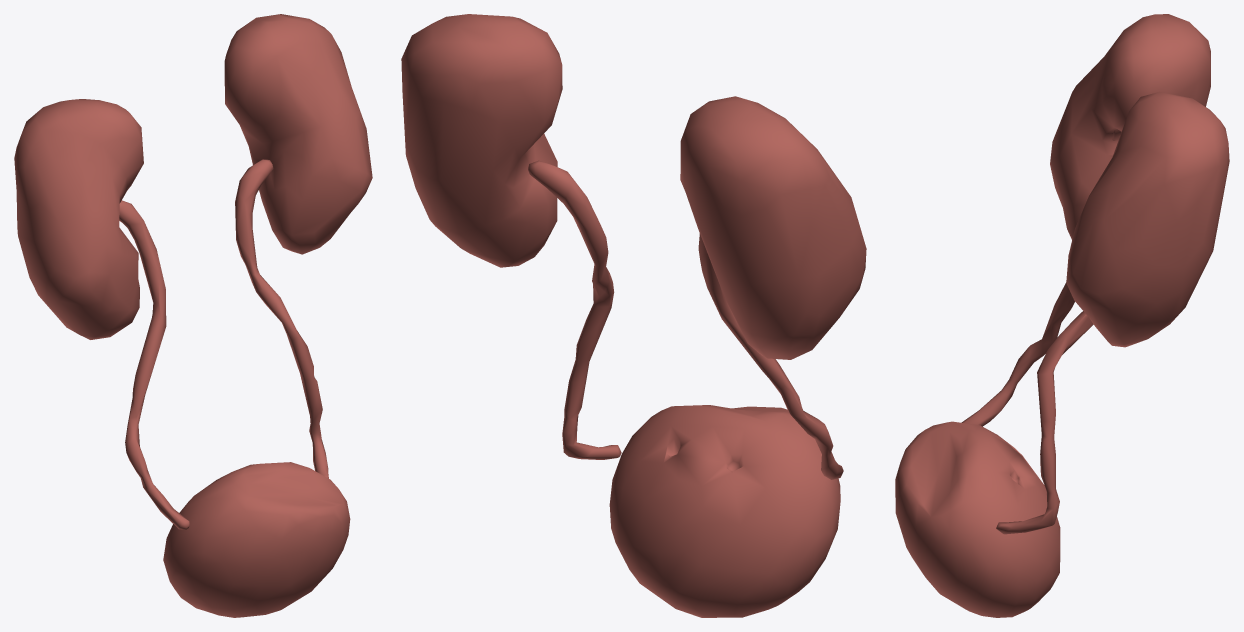
The model's file is pediatric_neonate_female.urinary.LOD2.glb.
3 renders of one model, left to right at view 1: azimuth 30°, elevation 25°; view 2: azimuth 150°, elevation 25°; view 3: azimuth 270°, elevation 25°, orthographic. The views are drawn at different scales.
Visible parts, largest first — view 1: PEDIATRIC.NEONATE.FEMALE.URINARY.KIDNEY_CORTEX.R, PEDIATRIC.NEONATE.FEMALE.URINARY.KIDNEY_CORTEX.L, PEDIATRIC.NEONATE.FEMALE.URINARY.URINARY_BLADDER_WALL, PEDIATRIC.NEONATE.FEMALE.URINARY.URETER.R, PEDIATRIC.NEONATE.FEMALE.URINARY.URETER.L; view 2: PEDIATRIC.NEONATE.FEMALE.URINARY.URINARY_BLADDER_WALL, PEDIATRIC.NEONATE.FEMALE.URINARY.KIDNEY_CORTEX.R, PEDIATRIC.NEONATE.FEMALE.URINARY.KIDNEY_CORTEX.L, PEDIATRIC.NEONATE.FEMALE.URINARY.URETER.L, PEDIATRIC.NEONATE.FEMALE.URINARY.URETER.R; view 3: PEDIATRIC.NEONATE.FEMALE.URINARY.KIDNEY_CORTEX.L, PEDIATRIC.NEONATE.FEMALE.URINARY.URINARY_BLADDER_WALL, PEDIATRIC.NEONATE.FEMALE.URINARY.KIDNEY_CORTEX.R, PEDIATRIC.NEONATE.FEMALE.URINARY.URETER.L, PEDIATRIC.NEONATE.FEMALE.URINARY.URETER.R.
Boxes of the visible parts, x1,y1,x2,y2 form: PEDIATRIC.NEONATE.FEMALE.URINARY.KIDNEY_CORTEX.R: [14, 99, 143, 339]; PEDIATRIC.NEONATE.FEMALE.URINARY.KIDNEY_CORTEX.L: [224, 14, 372, 254]; PEDIATRIC.NEONATE.FEMALE.URINARY.URINARY_BLADDER_WALL: [163, 462, 350, 617]; PEDIATRIC.NEONATE.FEMALE.URINARY.URETER.R: [119, 200, 189, 529]; PEDIATRIC.NEONATE.FEMALE.URINARY.URETER.L: [235, 159, 328, 478]; PEDIATRIC.NEONATE.FEMALE.URINARY.URINARY_BLADDER_WALL: [609, 405, 840, 617]; PEDIATRIC.NEONATE.FEMALE.URINARY.KIDNEY_CORTEX.R: [680, 96, 866, 359]; PEDIATRIC.NEONATE.FEMALE.URINARY.KIDNEY_CORTEX.L: [401, 14, 562, 267]; PEDIATRIC.NEONATE.FEMALE.URINARY.URETER.L: [528, 160, 621, 459]; PEDIATRIC.NEONATE.FEMALE.URINARY.URETER.R: [698, 233, 843, 479]; PEDIATRIC.NEONATE.FEMALE.URINARY.KIDNEY_CORTEX.L: [1066, 91, 1229, 347]; PEDIATRIC.NEONATE.FEMALE.URINARY.URINARY_BLADDER_WALL: [895, 421, 1060, 617]; PEDIATRIC.NEONATE.FEMALE.URINARY.KIDNEY_CORTEX.R: [1050, 14, 1210, 239]; PEDIATRIC.NEONATE.FEMALE.URINARY.URETER.L: [996, 311, 1093, 534]; PEDIATRIC.NEONATE.FEMALE.URINARY.URETER.R: [961, 282, 1074, 426].
Size of the model in its own units: 0.0723 by 0.1047 by 0.0564.
